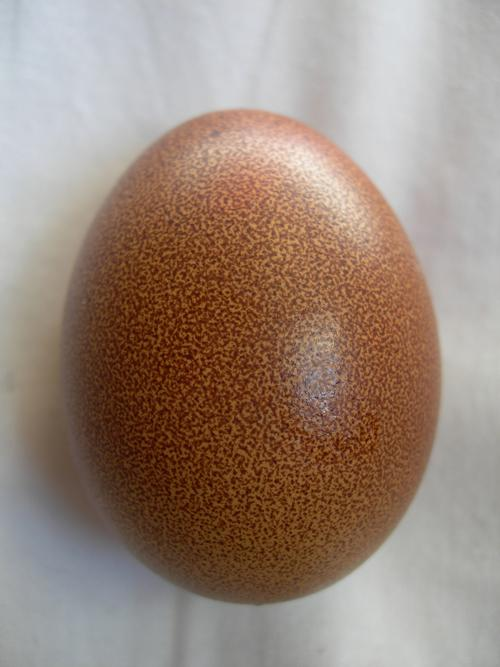egg: (56, 105, 443, 609)
